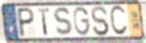C: (109, 4, 129, 38)
G: (73, 6, 91, 37)
P: (17, 7, 36, 39)
S: (53, 6, 75, 38), (90, 5, 110, 37)
T: (37, 8, 51, 37)
